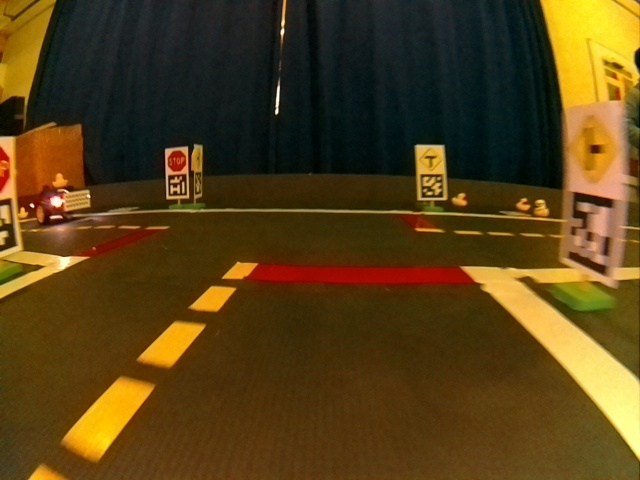Duckie: (536, 201, 550, 216), (53, 174, 67, 187), (453, 194, 468, 204), (519, 199, 531, 211)
Duckiebot: (29, 189, 90, 224)
Intersection sign: (568, 115, 616, 183), (418, 147, 442, 171), (194, 148, 203, 169)
QR code: (564, 193, 619, 274), (420, 174, 444, 198), (168, 174, 187, 196), (499, 209, 529, 217), (194, 173, 203, 195)
Stop sign: (167, 150, 187, 171)
